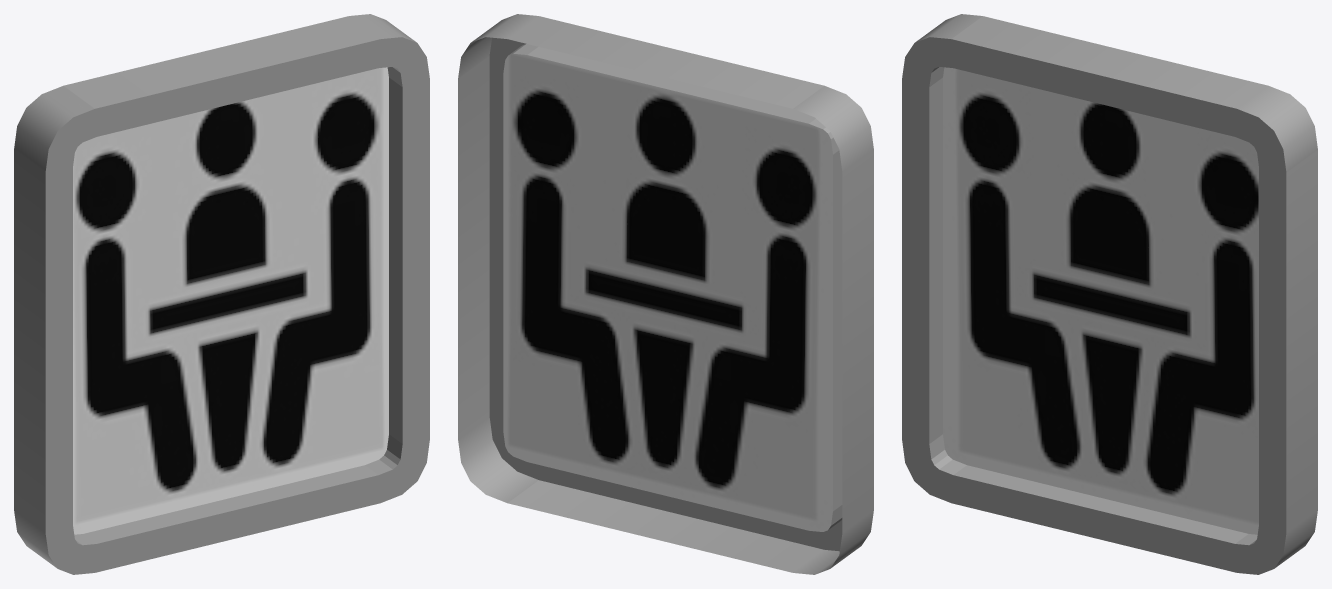
The model's file is Staff_Room.FBX.
The picture shows the model from 3 angles, left to right: view 1: azimuth 30°, elevation 25°; view 2: azimuth 150°, elevation 25°; view 3: azimuth 330°, elevation 25°; orthographic projection.
Visible parts, largest first — view 1: Pancart_Refrectoire004; view 2: Pancart_Refrectoire004; view 3: Pancart_Refrectoire004.
Boxes of the visible parts, <box> form: Pancart_Refrectoire004: <box>14,14,429,574</box>; Pancart_Refrectoire004: <box>458,14,873,574</box>; Pancart_Refrectoire004: <box>902,14,1317,574</box>.
Size of the model in its own units: 26 by 30 by 3.7.
Materials: 1 (1 with a texture image).
